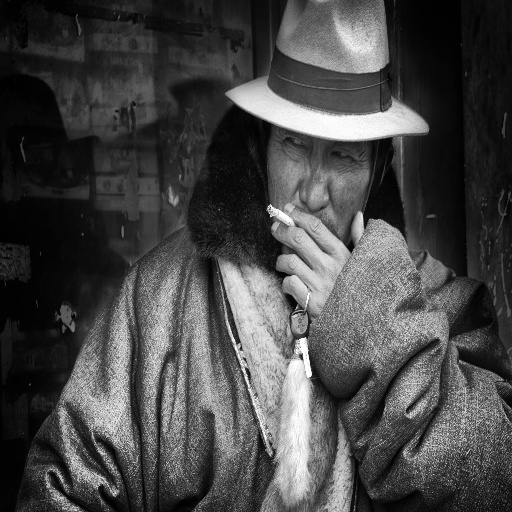hand: (262, 192, 363, 323)
